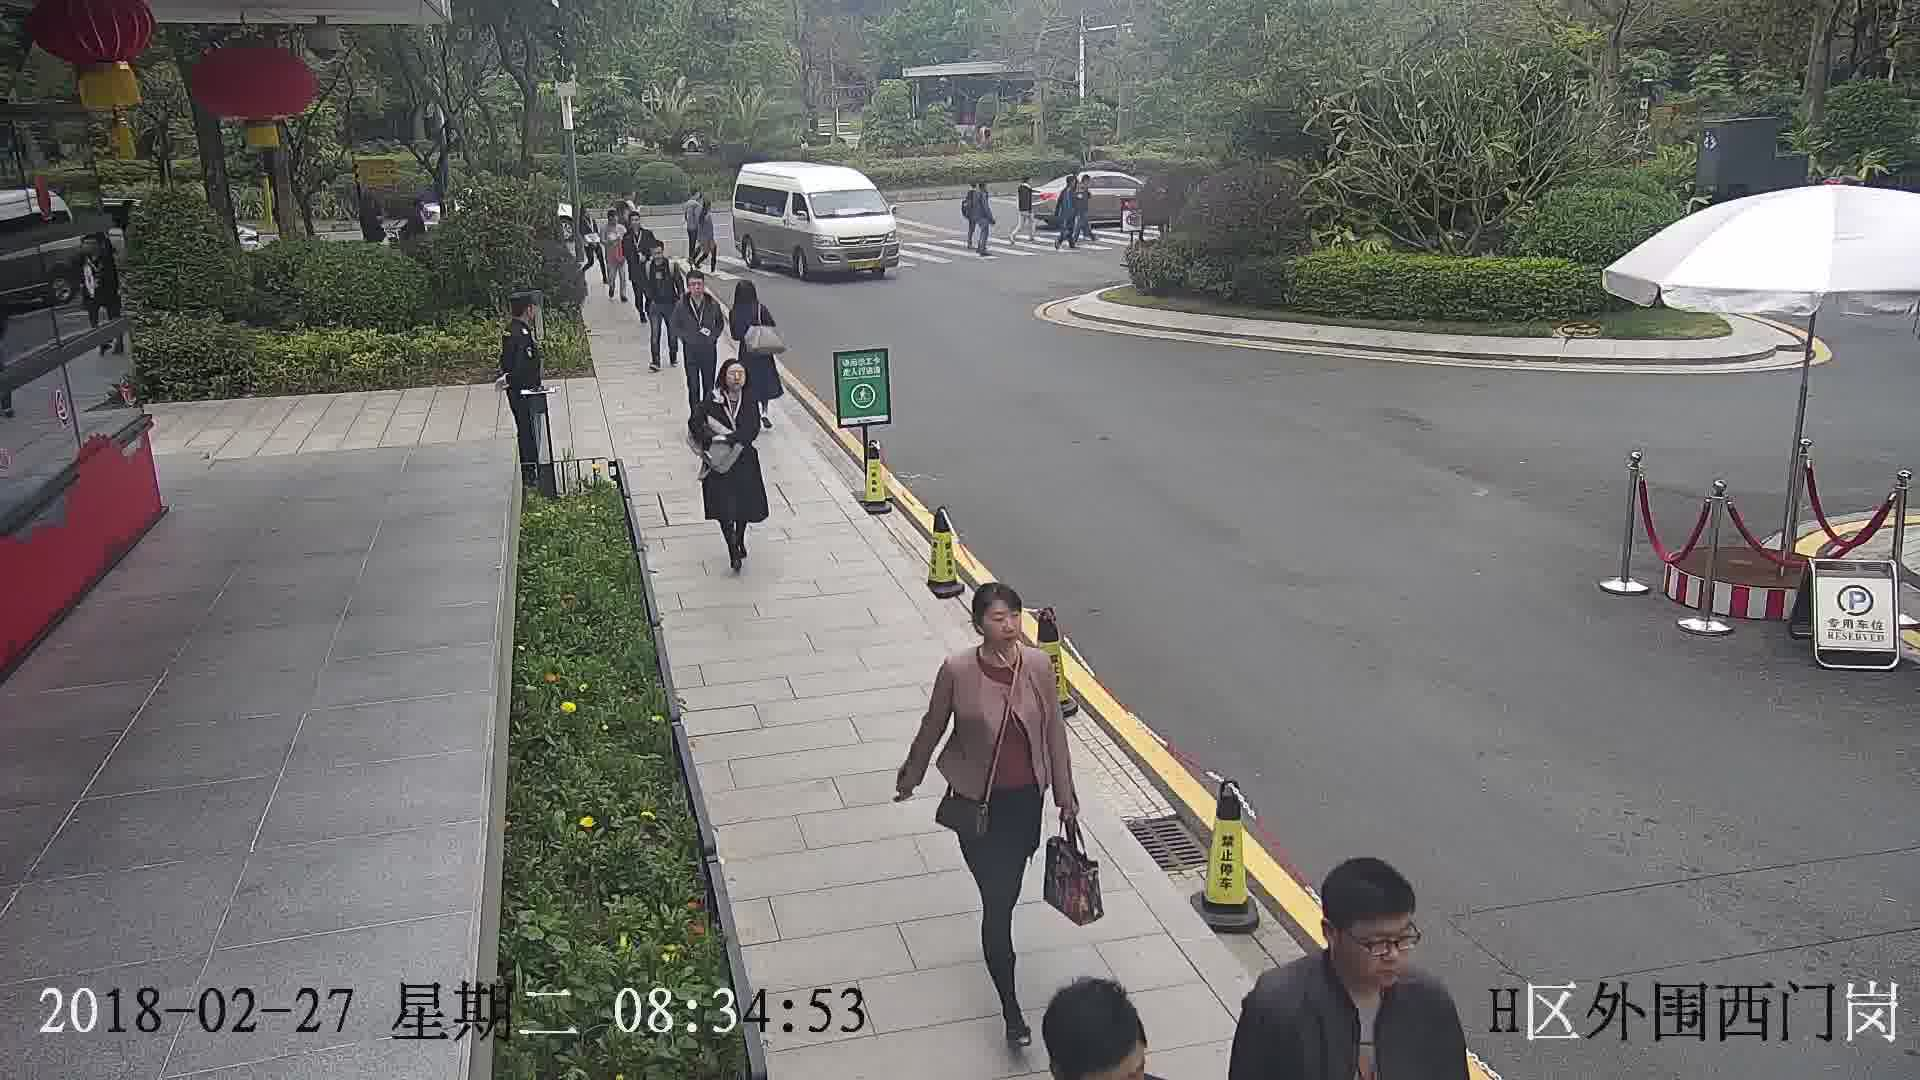face: (1334, 914, 1410, 990), (980, 597, 1027, 654)
person: (1241, 855, 1460, 1042), (978, 969, 1228, 1079), (934, 580, 1059, 701), (697, 358, 756, 413), (503, 290, 545, 345), (675, 267, 721, 308), (733, 275, 766, 312), (645, 235, 676, 269), (356, 191, 382, 220), (623, 209, 646, 237), (603, 208, 625, 236), (1060, 170, 1079, 202), (686, 187, 710, 211), (965, 175, 988, 200), (1016, 174, 1035, 196), (1078, 171, 1095, 196)
